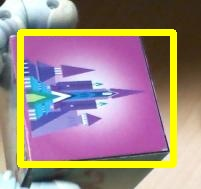Castle4: (20, 32, 173, 164)
